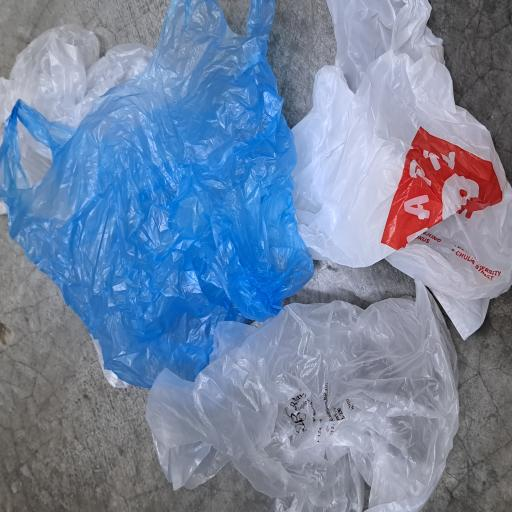plastic bag: (94, 0, 384, 419), (0, 195, 179, 512), (128, 371, 383, 512), (220, 0, 366, 217)
